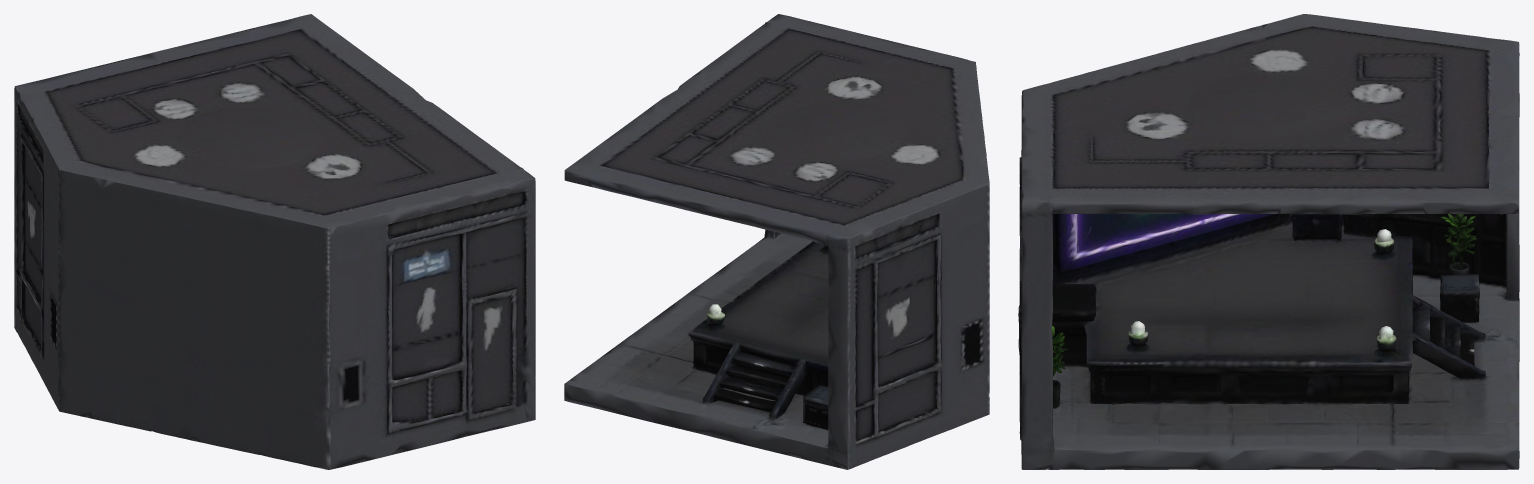
Rendered from STUDIORIDGE_IN.glb.
The picture shows the model from 3 angles, left to right: view 1: azimuth 30°, elevation 25°; view 2: azimuth 150°, elevation 25°; view 3: azimuth 270°, elevation 25°; orthographic projection. The views are drawn at different scales.
Visible parts, largest first — view 1: tripo_node_d14ab084-9b78-4a76-836f-e8668d937e67; view 2: tripo_node_d14ab084-9b78-4a76-836f-e8668d937e67; view 3: tripo_node_d14ab084-9b78-4a76-836f-e8668d937e67.
Boxes of the visible parts, x1=… form: tripo_node_d14ab084-9b78-4a76-836f-e8668d937e67: x1=14, y1=14, x2=535, y2=469; tripo_node_d14ab084-9b78-4a76-836f-e8668d937e67: x1=564, y1=14, x2=989, y2=469; tripo_node_d14ab084-9b78-4a76-836f-e8668d937e67: x1=1018, y1=14, x2=1519, y2=469.
Size of the model in its own units: 0.8911 by 0.6008 by 1.
Materials: 1 (1 with a texture image).
